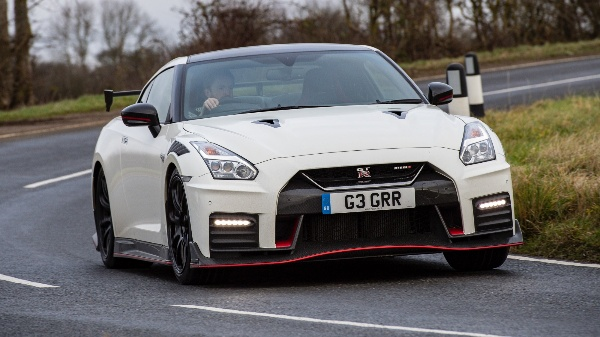licence: (311, 187, 418, 213)
